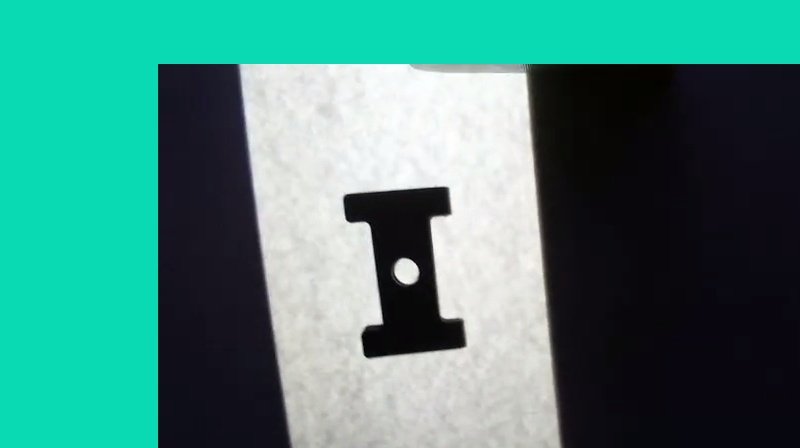O002: (335, 180, 472, 360)
